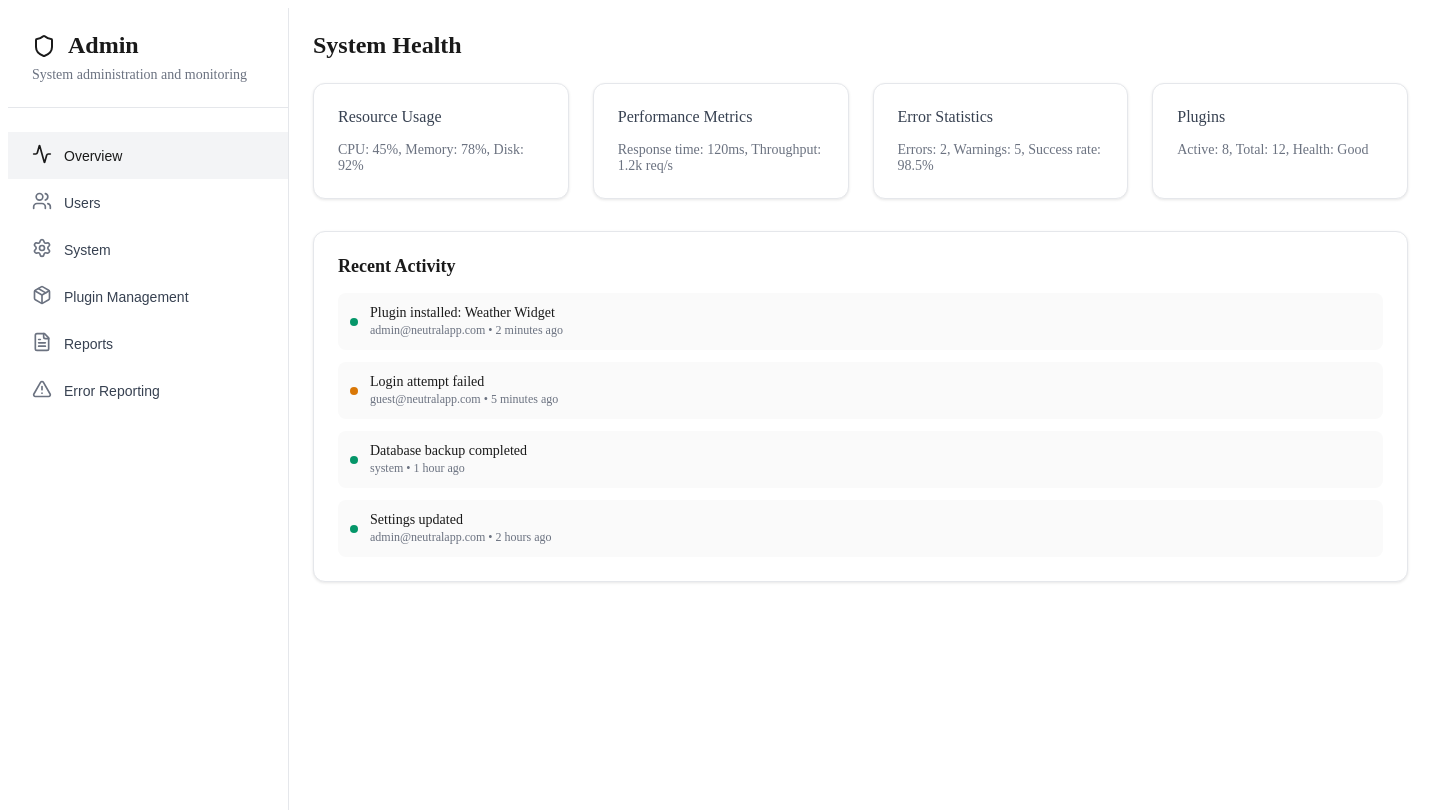
Test case: AdminPage › Navigation and Tabs › should switch to plugin management tab when clicked
The width and height of the screenshot is (1440, 810).
Step 1. Click the tab "Plugin Management" → (148, 296), box [8,273,288,320]
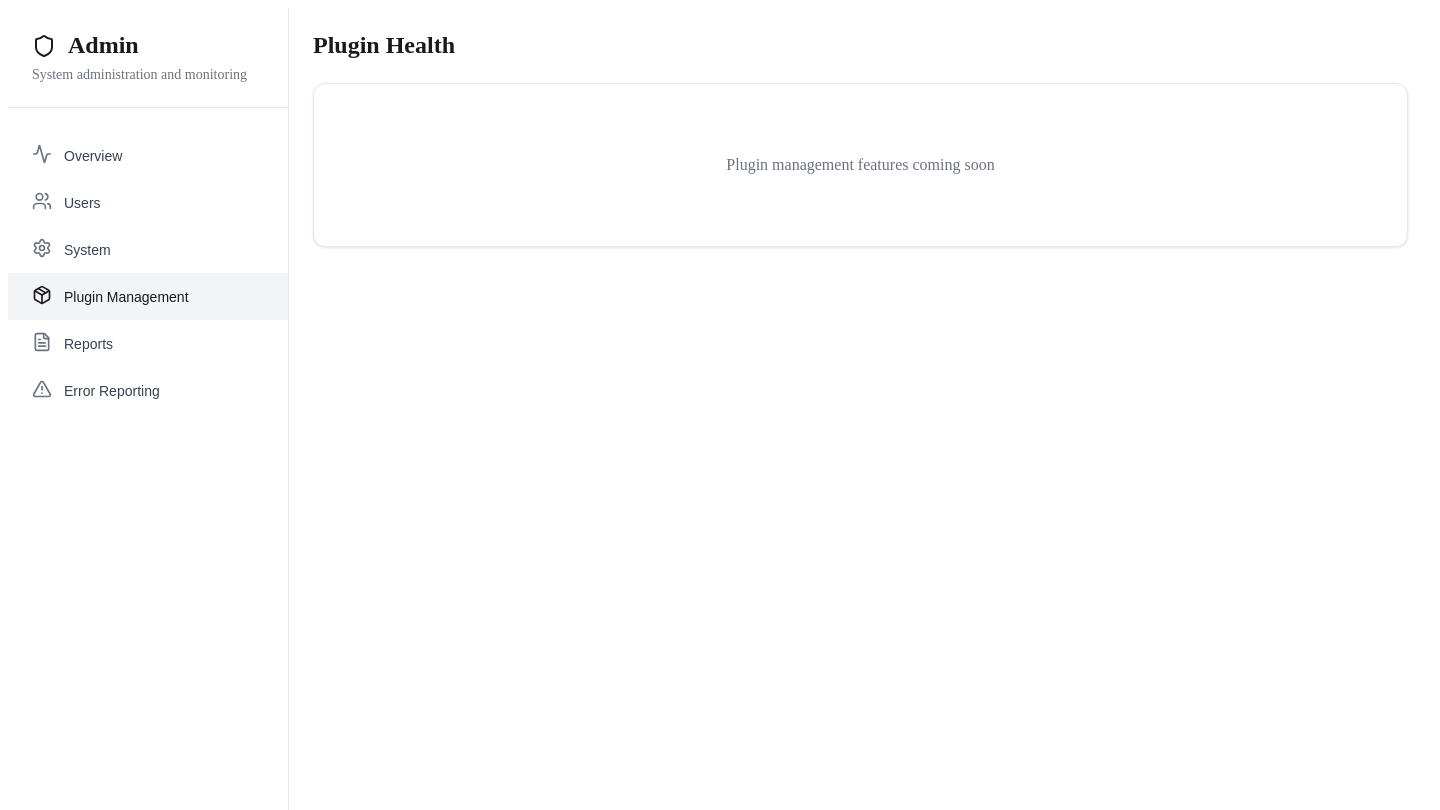
Check: the heading "Plugin Health" is shown, box [313,32,455,58]
